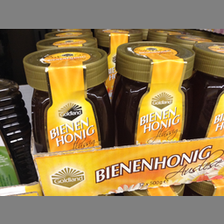honey: (22, 49, 118, 166), (116, 40, 197, 161)
